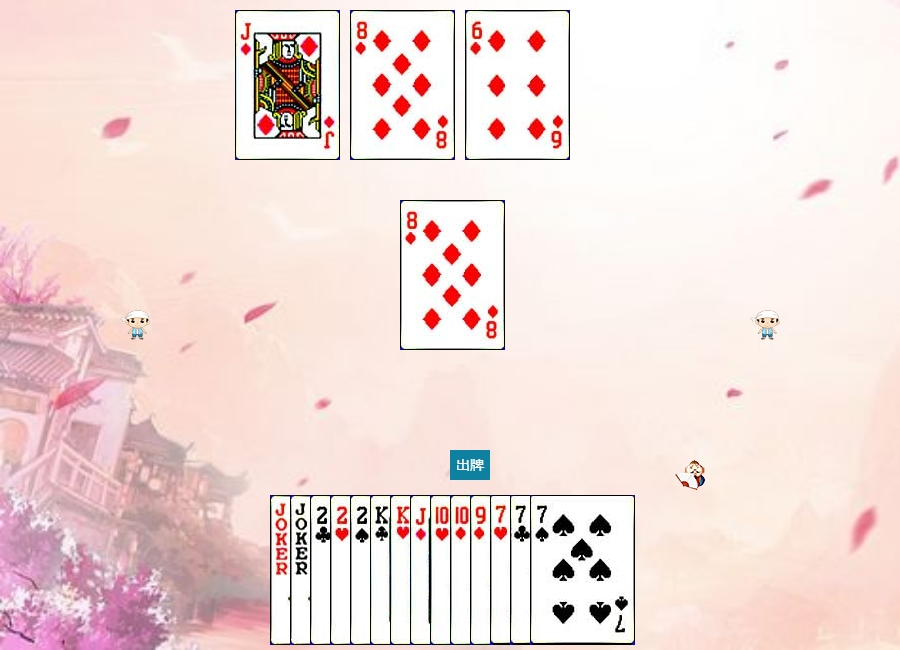10~1: (450, 495, 555, 645)
10~3: (430, 495, 535, 645)
11~1: (235, 10, 340, 160), (410, 495, 515, 645)
13~2: (370, 495, 475, 645)
13~3: (390, 495, 495, 645)
15~2: (310, 495, 415, 645)
15~3: (330, 495, 435, 645)
15~4: (350, 495, 455, 645)
17~3: (290, 495, 395, 645)
18~4: (270, 495, 375, 645)
6~1: (465, 10, 570, 160)
7~2: (510, 495, 615, 645)
7~3: (490, 495, 595, 645)
7~4: (530, 495, 635, 645)
8~1: (350, 10, 455, 160), (400, 200, 505, 350)
9~1: (470, 495, 575, 645)
